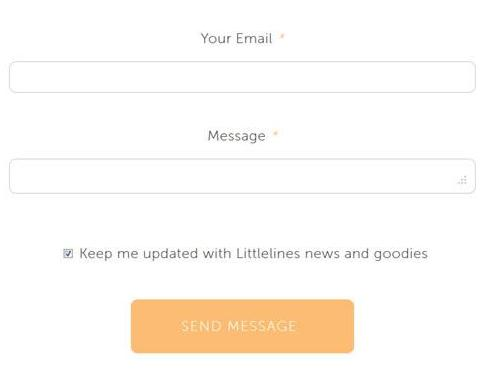button: (130, 298, 354, 354)
checkbox: (60, 247, 77, 261)
checkbox_with_label: (57, 244, 430, 263)
field: (9, 158, 476, 195), (8, 60, 477, 94)
field_with_label: (7, 128, 478, 197), (5, 32, 480, 97)
